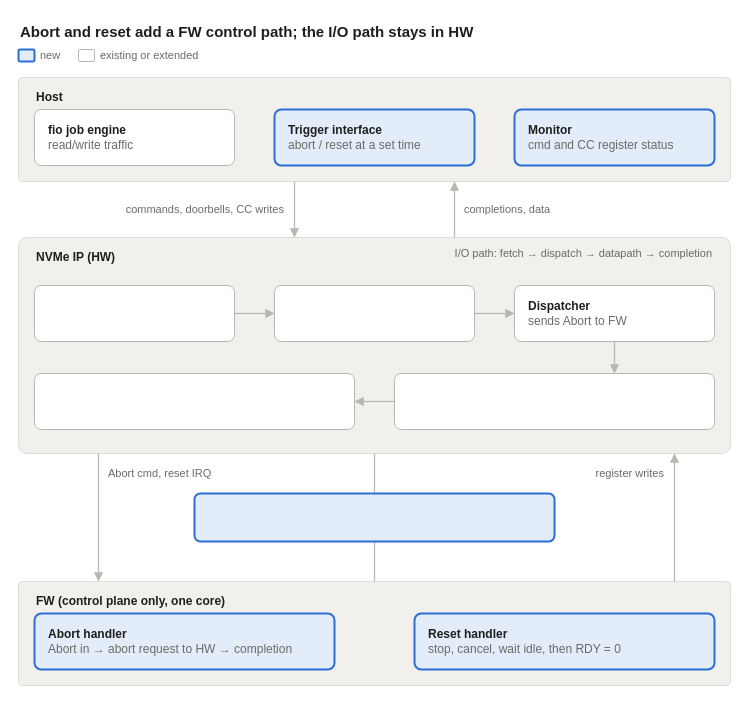
Image size: 748x703. Some labels were removed from this diagram. Each missing label, with the centre of its shape:
"CQ poster + MSI-X gated during reset" goes at (194,401).
"Datapath" goes at (554,401).
"FW control and status registers abort request and ack, stop, gate, cancel, idle" goes at (374,517).
"Register block CC, CSTS, doorbells" goes at (134,313).
"SQ fetch + arbiter can be stopped by FW" goes at (374,313).
